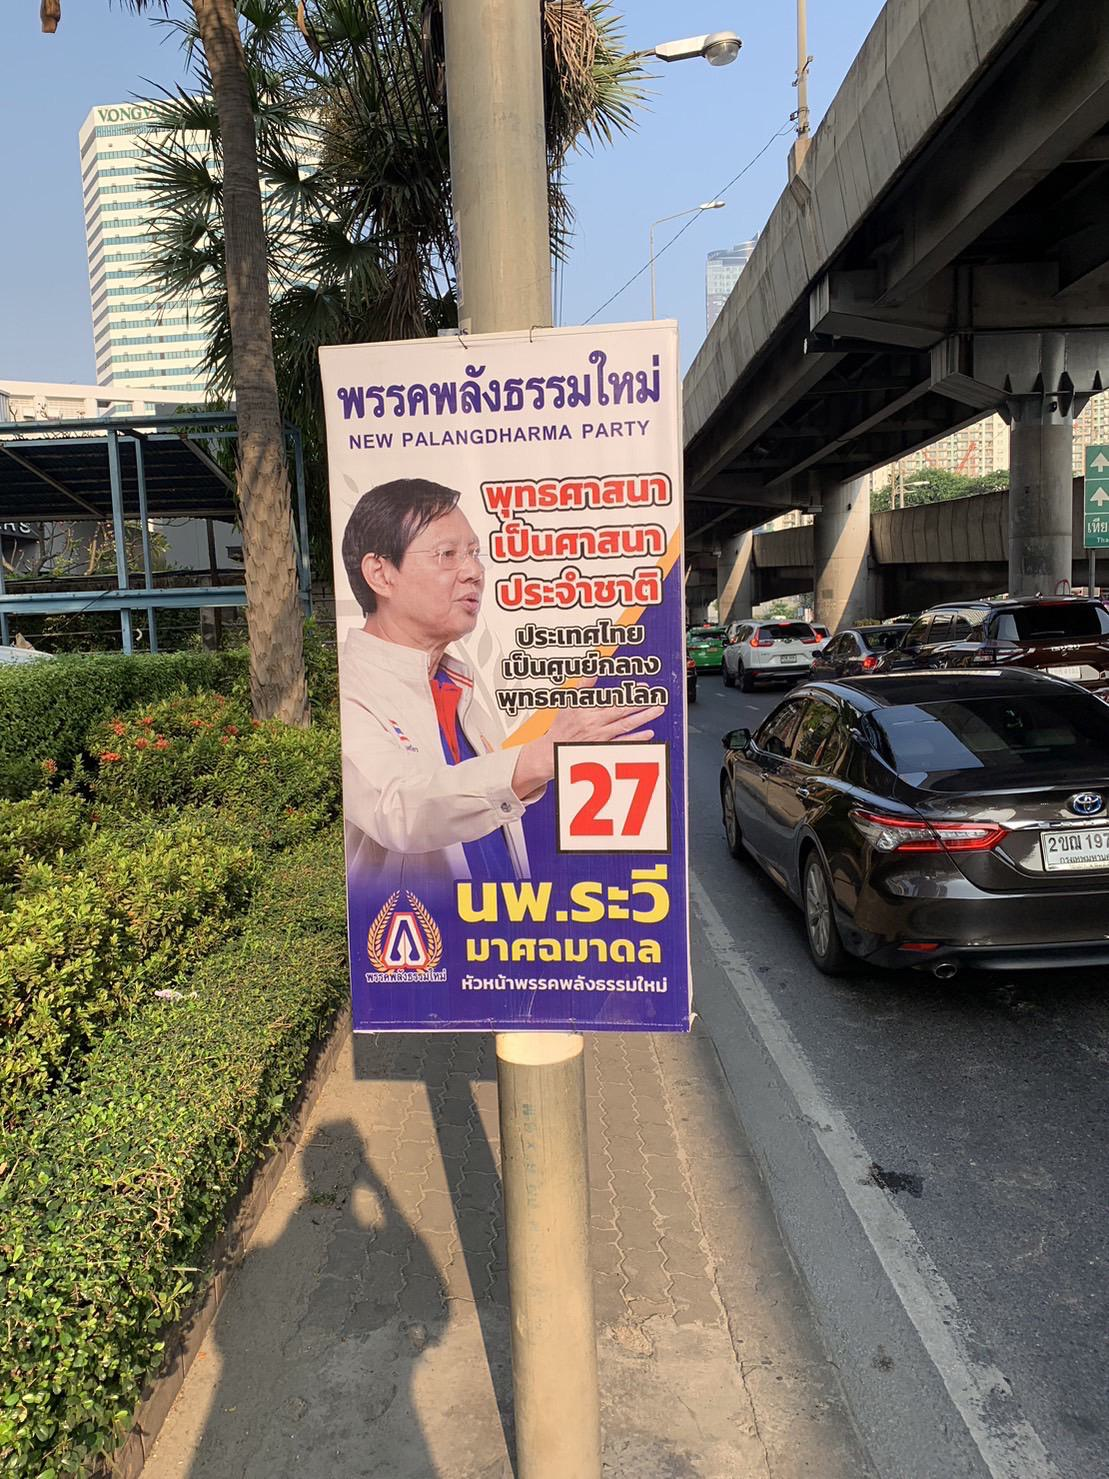Banner: (323, 342, 688, 1028)
